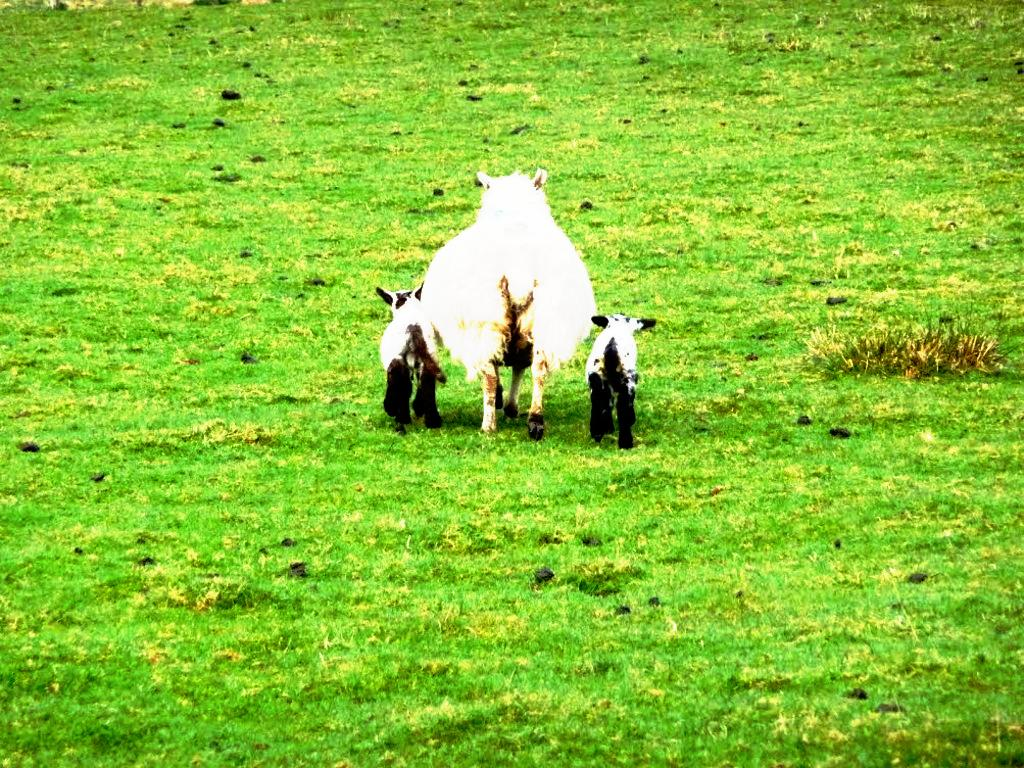Sheep: (422, 164, 598, 437), (580, 310, 658, 451), (377, 287, 440, 428)
